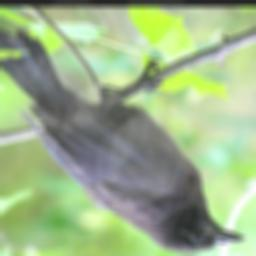Crow: (0, 26, 245, 254)
